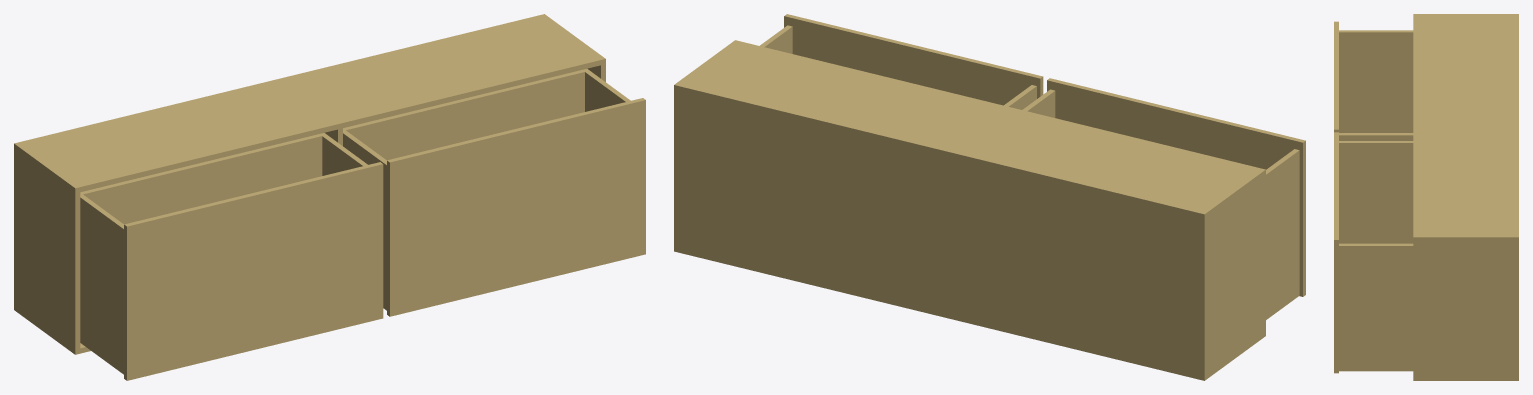
File: meuble_690f66b1529de.glb
The picture shows the model from 3 angles, left to right: view 1: azimuth 30°, elevation 25°; view 2: azimuth 150°, elevation 25°; view 3: azimuth 270°, elevation 25°; orthographic projection. The views are drawn at different scales.
Visible parts, largest first — view 1: world; view 2: world; view 3: world.
Part boxes in pixels (bbox=[...]): world: bbox=[14, 14, 645, 380]; world: bbox=[674, 14, 1305, 380]; world: bbox=[1334, 14, 1518, 380].
Bounding box in the file's own units: 2 × 0.6 × 0.7.
